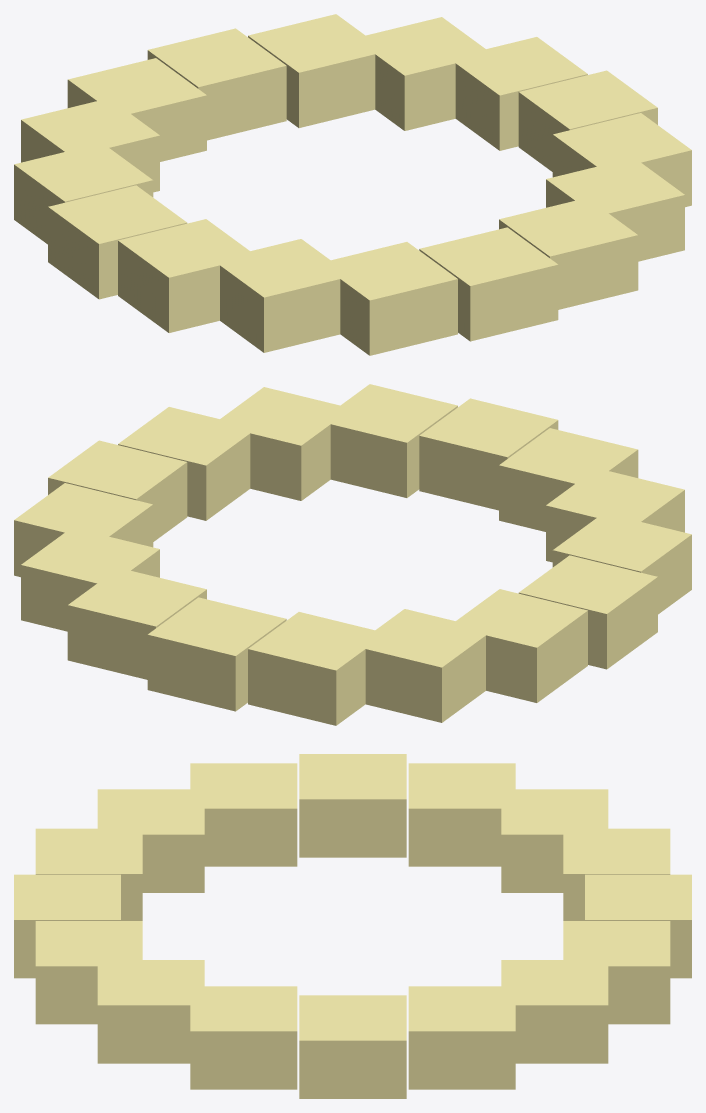
The model's file is hat_halo.gltf.
The picture shows the model from 3 angles, top to bottom: view 1: azimuth 30°, elevation 25°; view 2: azimuth 150°, elevation 25°; view 3: azimuth 270°, elevation 25°; orthographic projection. The views are drawn at different scales.
Visible parts, largest first — view 1: hat_halo; view 2: hat_halo; view 3: hat_halo.
Boxes of the visible parts, x1,y1,x2,y2 form: hat_halo: [14, 14, 691, 355]; hat_halo: [14, 384, 691, 725]; hat_halo: [14, 754, 691, 1098].
Bounding box in the file's own units: 0.475 × 0.045 × 0.475.
